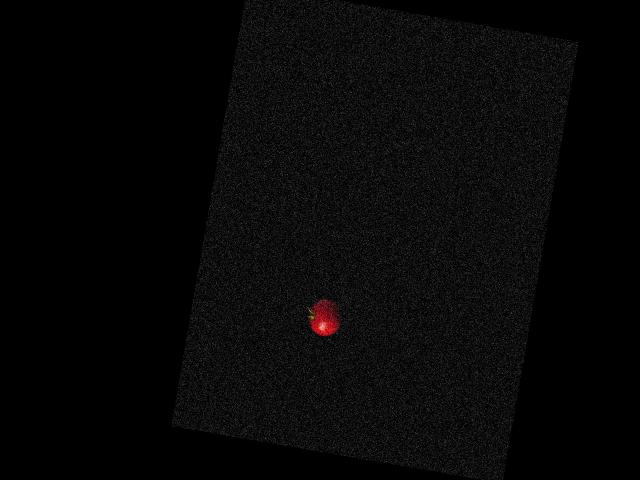tomato: (307, 296, 343, 337)
